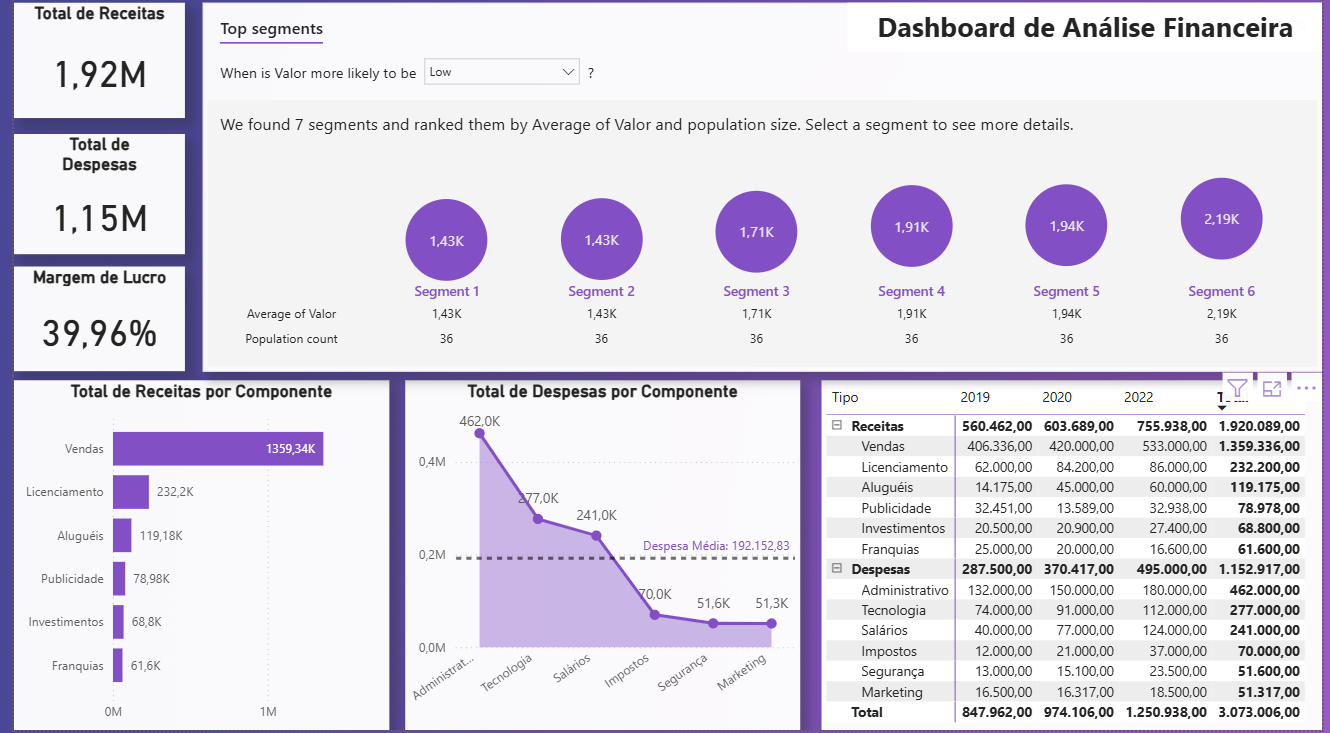

The page's visual inventory and layout, read from the dashboard file:
{"tool":"powerbi","page":{"name":"Página 1","canvas":[1280,720],"ordinal":0},"visuals":[{"type":"card","title":"Total de Receitas","fields":{"Values":["Medidas - Indicadores Financeiros.Total de Receitas"]},"box":[0,8.6,167.5,112.5],"z":0},{"type":"card","title":"Total de Despesas","fields":{"Values":["Medidas - Indicadores Financeiros.Total de Despesas"]},"box":[0,137,167.5,117.4],"z":1000},{"type":"card","title":"Margem de Lucro","fields":{"Values":["Medidas - Indicadores Financeiros.Margem de Lucro"]},"box":[0,266.6,167.5,102.7],"z":2000},{"type":"clusteredBarChart","title":"Total de Receitas por Componente","fields":{"Category":["DadosFinanceiros.Componente"],"Y":["Medidas - Indicadores Financeiros.Total de Receitas"]},"box":[0,377.9,366.8,342.4],"z":3000},{"type":"areaChart","title":"Total de Despesas por Componente","fields":{"Category":["DadosFinanceiros.Componente"],"Y":["Medidas - Indicadores Financeiros.Total de Despesas"]},"box":[382.7,377.9,386.4,342.4],"z":4000},{"type":"pivotTable","fields":{"Rows":["DadosFinanceiros.Tipo","DadosFinanceiros.Componente"],"Values":["Sum(DadosFinanceiros.Valor)"],"Columns":["DadosFinanceiros.Data.Variação.Hierarquia de Datas.Ano"]},"box":[789.9,377.9,490.4,342.4],"z":5000},{"type":"keyDriversVisual","fields":{"Target":["DadosFinanceiros.Valor"],"ExplainBy":["DadosFinanceiros.Tipo","DadosFinanceiros.Componente"]},"box":[184.6,8.6,1095.7,360.7],"z":6000},{"type":"textbox","box":[815.6,8.6,464.7,47.7],"z":7000}]}

Visuals, with their boxes in screenshot pixels (x1, y1, x2, y2), scaled from the page's 1280x720 canvas onto the 1330x733 screenshot:
"Total de Receitas" card: Rect(0, 9, 174, 123)
"Total de Despesas" card: Rect(0, 139, 174, 259)
"Margem de Lucro" card: Rect(0, 271, 174, 376)
"Total de Receitas por Componente" clusteredBarChart: Rect(0, 385, 381, 732)
"Total de Despesas por Componente" areaChart: Rect(398, 385, 799, 732)
pivotTable - DadosFinanceiros.Tipo x DadosFinanceiros.Componente: Rect(821, 385, 1329, 732)
keyDriversVisual - DadosFinanceiros.Valor x DadosFinanceiros.Tipo: Rect(192, 9, 1329, 376)
textbox: Rect(847, 9, 1329, 57)
